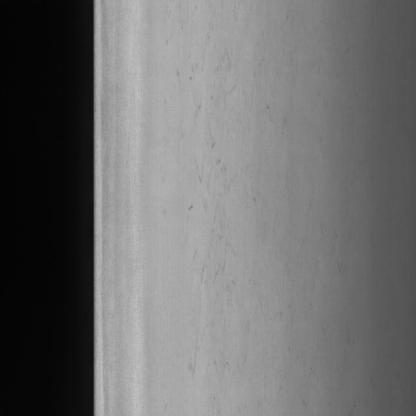silk_spot: (166, 23, 276, 350)
